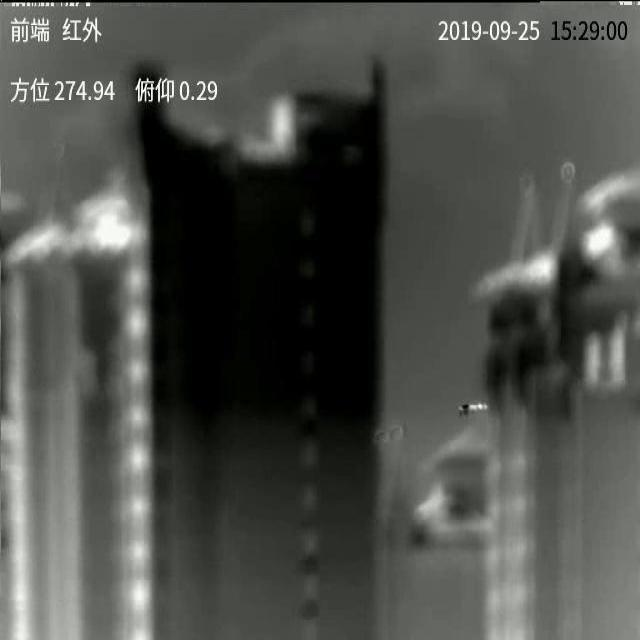drone: (457, 403, 489, 417)
